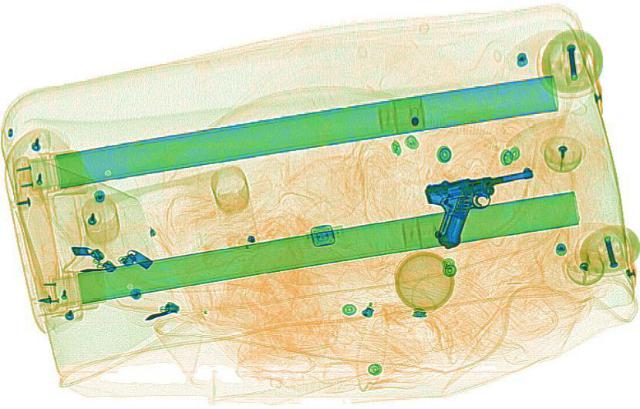Gun: (416, 169, 558, 246)
